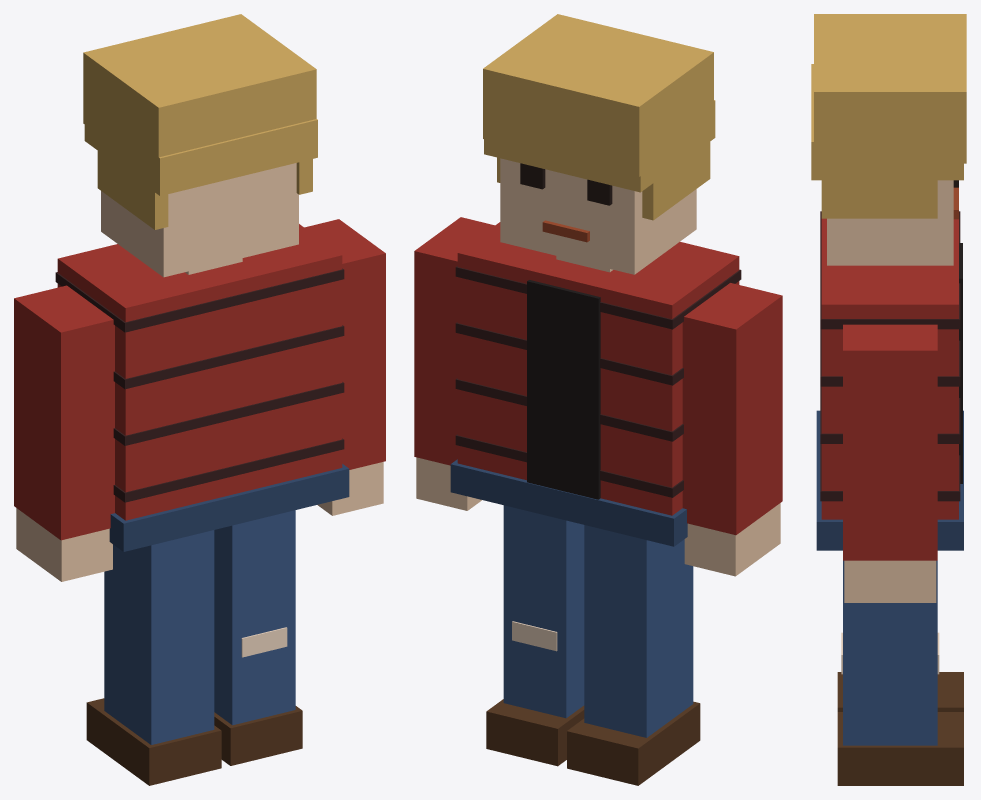
Rendered from obriens_kid.glb.
The picture shows the model from 3 angles, left to right: view 1: azimuth 30°, elevation 25°; view 2: azimuth 150°, elevation 25°; view 3: azimuth 270°, elevation 25°; orthographic projection. The views are drawn at different scales.
Visible parts, largest first — view 1: Box10, Box24, Box3, Box1, Box5, Box18, Box8, Box25, Box16, Box2, Box4, Box7 (+7 smaller); view 2: Box10, Box24, Box3, Box1, Box5, Box11, Box18, Box8, Box16, Box2, Box25, Box7 (+8 smaller); view 3: Box24, Box8, Box10, Box5, Box18, Box7, Box25, Box27, Box9, Box16, Box15, Box2 (+4 smaller).
Part boxes in pixels (left/top/right/bottom): Box10: left=57, top=224, right=342, bottom=520; Box24: left=83, top=14, right=316, bottom=177; Box3: left=14, top=285, right=114, bottom=540; Box1: left=104, top=530, right=214, bottom=744; Box5: left=214, top=510, right=295, bottom=725; Box18: left=101, top=163, right=298, bottom=277; Box8: left=304, top=219, right=385, bottom=469; Box25: left=84, top=104, right=317, bottom=195; Box16: left=109, top=464, right=349, bottom=551; Box2: left=86, top=698, right=221, bottom=785; Box4: left=16, top=508, right=112, bottom=581; Box7: left=214, top=706, right=302, bottom=765; Box10: left=457, top=222, right=739, bottom=515; Box24: left=483, top=14, right=713, bottom=176; Box3: left=682, top=283, right=782, bottom=535; Box1: left=584, top=525, right=693, bottom=737; Box5: left=503, top=505, right=584, bottom=718; Box11: left=527, top=280, right=600, bottom=499; Box18: left=500, top=158, right=696, bottom=274; Box8: left=414, top=217, right=494, bottom=465; Box16: left=450, top=459, right=687, bottom=546; Box2: left=567, top=701, right=700, bottom=785; Box25: left=484, top=100, right=715, bottom=192; Box7: left=486, top=699, right=584, bottom=766; Box24: left=814, top=14, right=966, bottom=163; Box8: left=843, top=324, right=937, bottom=560; Box10: left=821, top=218, right=958, bottom=519; Box5: left=843, top=560, right=937, bottom=745; Box18: left=827, top=180, right=953, bottom=265; Box7: left=837, top=712, right=963, bottom=785; Box25: left=811, top=64, right=963, bottom=180; Box27: left=821, top=151, right=937, bottom=218; Box9: left=844, top=560, right=936, bottom=602; Box16: left=816, top=410, right=963, bottom=550; Box15: left=820, top=211, right=960, bottom=329; Box2: left=837, top=672, right=963, bottom=711.
Bounding box in the file's own units: 0.756 × 1.53 × 0.3097.
